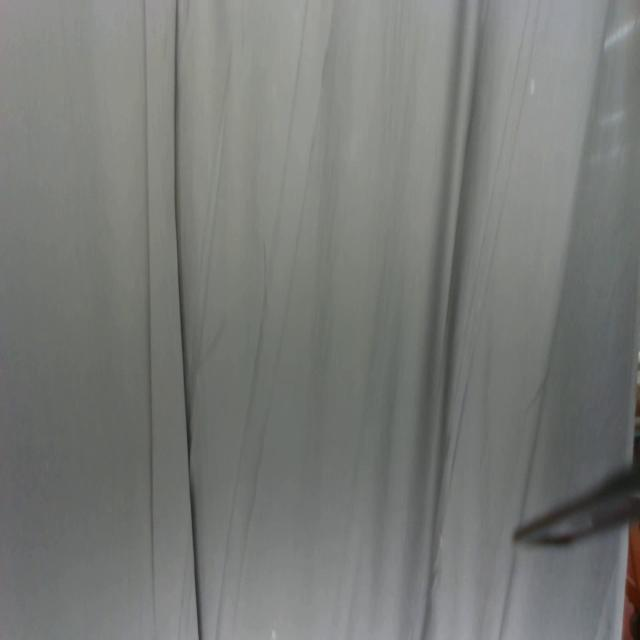crease: (213, 0, 334, 639), (419, 0, 539, 638), (142, 0, 202, 640)
hole: (267, 625, 280, 640), (529, 74, 536, 98), (439, 529, 445, 550)
